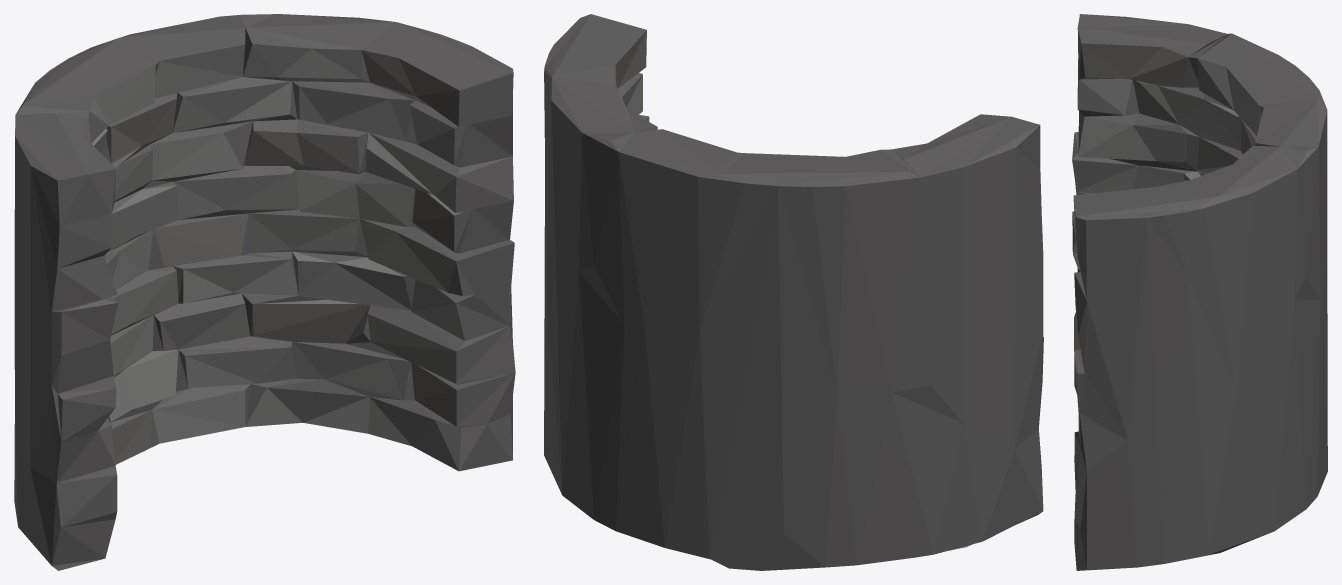
File: SM_Env_Wall_Alcove_Round_02.FBX
The picture shows the model from 3 angles, left to right: view 1: azimuth 30°, elevation 25°; view 2: azimuth 150°, elevation 25°; view 3: azimuth 270°, elevation 25°; orthographic projection. The views are drawn at different scales.
Visible parts, largest first — view 1: SM_Env_Wall_Alcove_Round_02; view 2: SM_Env_Wall_Alcove_Round_02; view 3: SM_Env_Wall_Alcove_Round_02.
Part boxes in pixels (<box>): SM_Env_Wall_Alcove_Round_02: <box>14,14,515,570</box>; SM_Env_Wall_Alcove_Round_02: <box>544,14,1043,570</box>; SM_Env_Wall_Alcove_Round_02: <box>1072,14,1327,570</box>.
Size of what is drawn, in the model's own units: 624 by 327 by 507.
